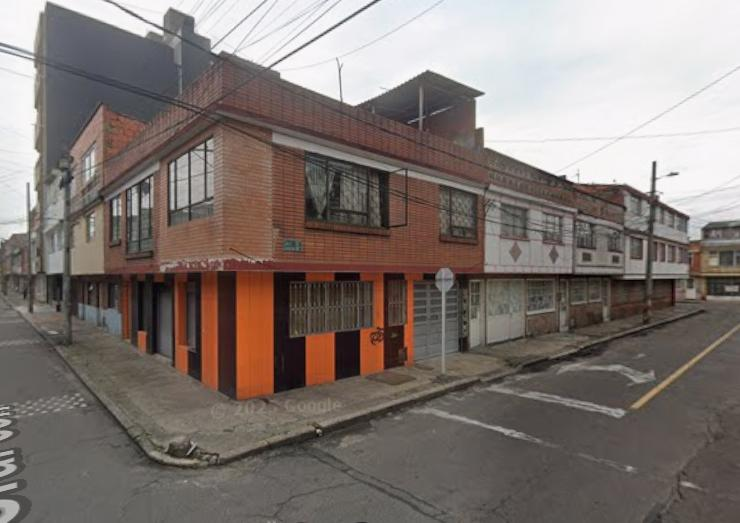casa: (103, 60, 492, 399), (34, 3, 205, 302), (461, 149, 626, 347), (71, 102, 144, 333), (580, 184, 689, 316), (445, 287, 464, 352)
